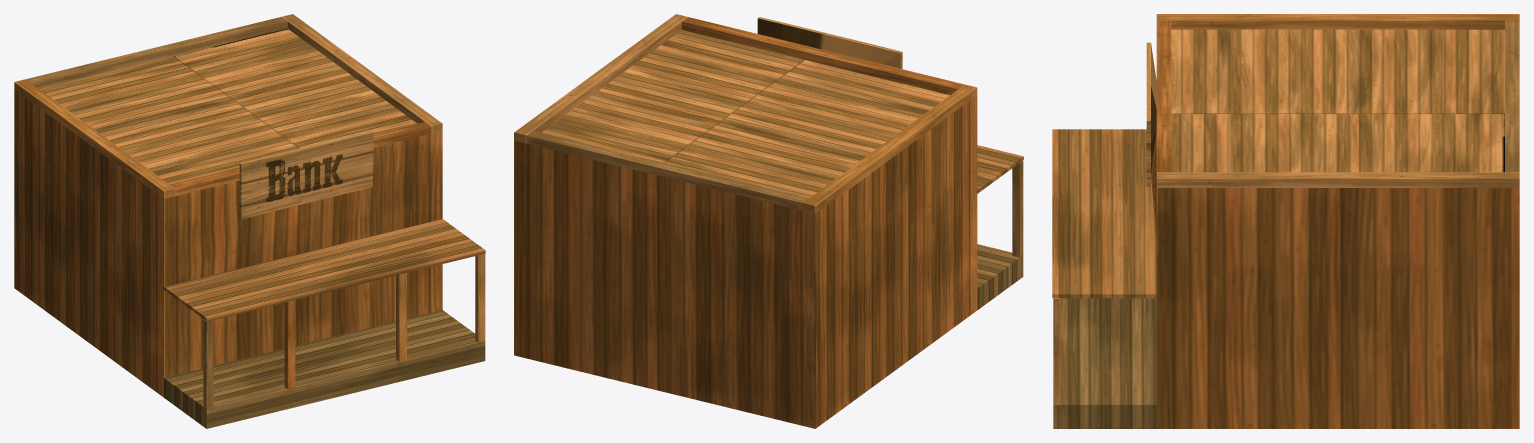
File: bank.FBX
3 renders of one model, left to right at view 1: azimuth 30°, elevation 25°; view 2: azimuth 150°, elevation 25°; view 3: azimuth 270°, elevation 25°, orthographic. The views are drawn at different scales.
Visible parts, largest first — view 1: Box001; view 2: Box001; view 3: Box001.
Boxes of the visible parts, x1,y1,x2,y2 form: Box001: (14,14,485,428); Box001: (514,14,1023,428); Box001: (1052,14,1519,428).
Bounding box in the file's own units: 792 × 594 × 949.
